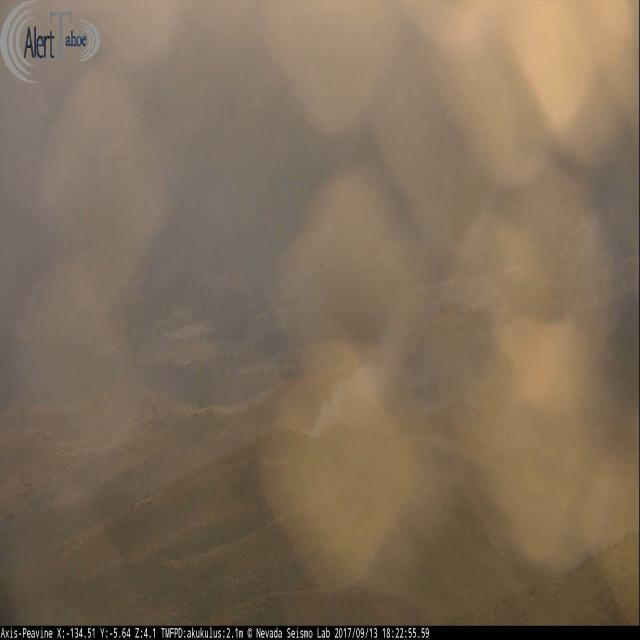smoke: (303, 318, 393, 441)
